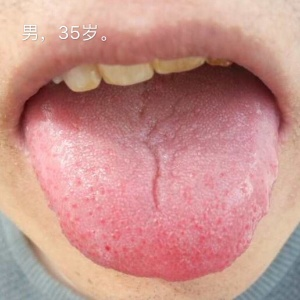st: (20, 106, 287, 283)
